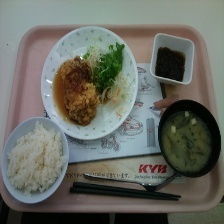rice: (3, 118, 71, 199)
